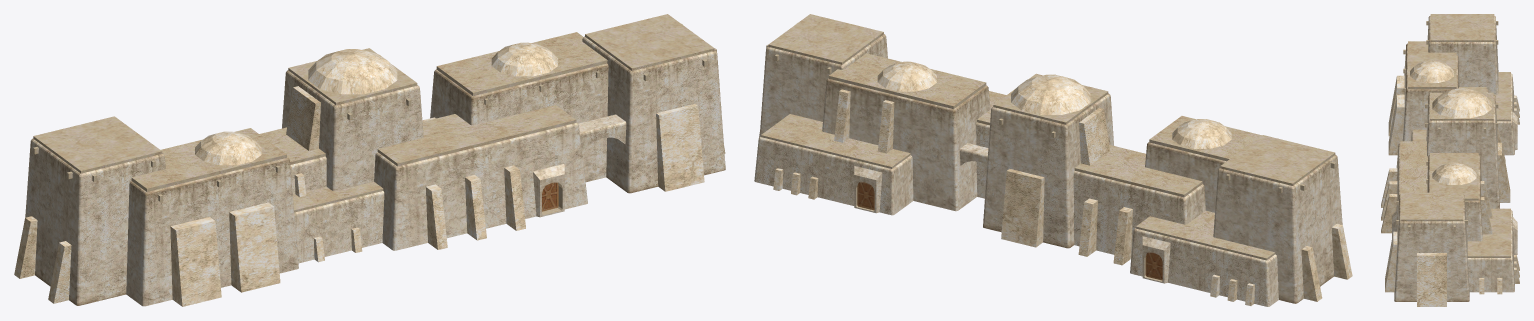
The model's file is thm_tato_block_bldg_64x16_s02_l0.fbx.
The picture shows the model from 3 angles, left to right: view 1: azimuth 30°, elevation 25°; view 2: azimuth 150°, elevation 25°; view 3: azimuth 270°, elevation 25°; orthographic projection. The views are drawn at different scales.
Parts seen in each view (by area): view 1: mesh_node; view 2: mesh_node; view 3: mesh_node.
Boxes of the visible parts, x1,y1,x2,y2 form: mesh_node: [14, 14, 725, 306]; mesh_node: [754, 14, 1352, 306]; mesh_node: [1381, 14, 1519, 306].
Size of the model in its own units: 67.12 by 15.34 by 18.41.
